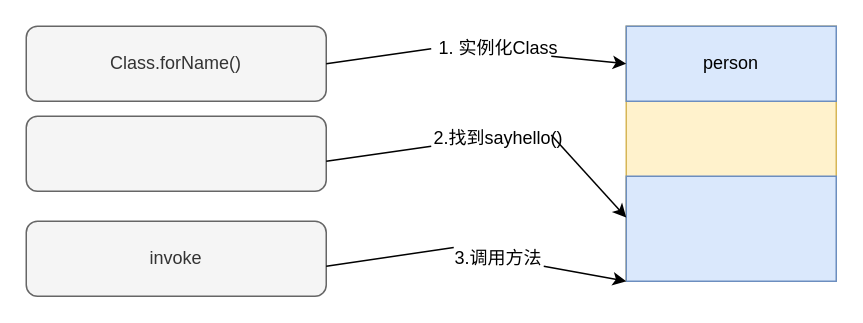
Image size: 863x323. Some labels were removed from this diagram. Each missing label, with the centre of its shape:
+sayHello():void: pixel 730 228
getMethod("sayhello"): pixel 175 153
